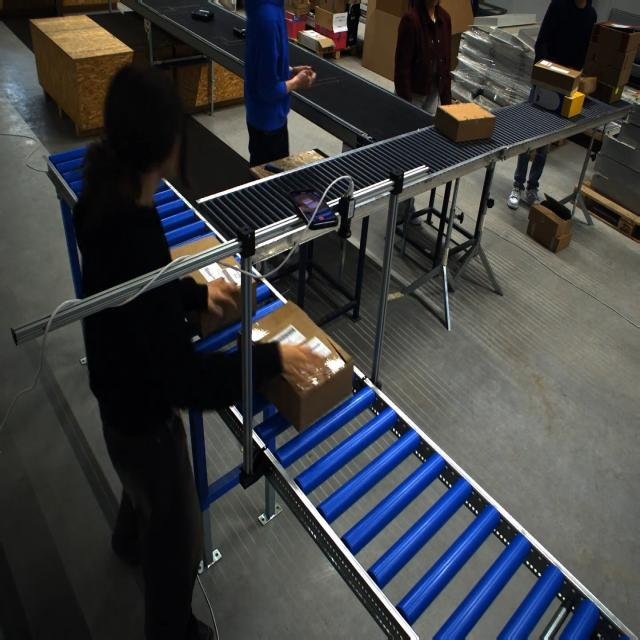box: (241, 296, 350, 427), (434, 103, 495, 145)
product: (190, 9, 214, 21)
